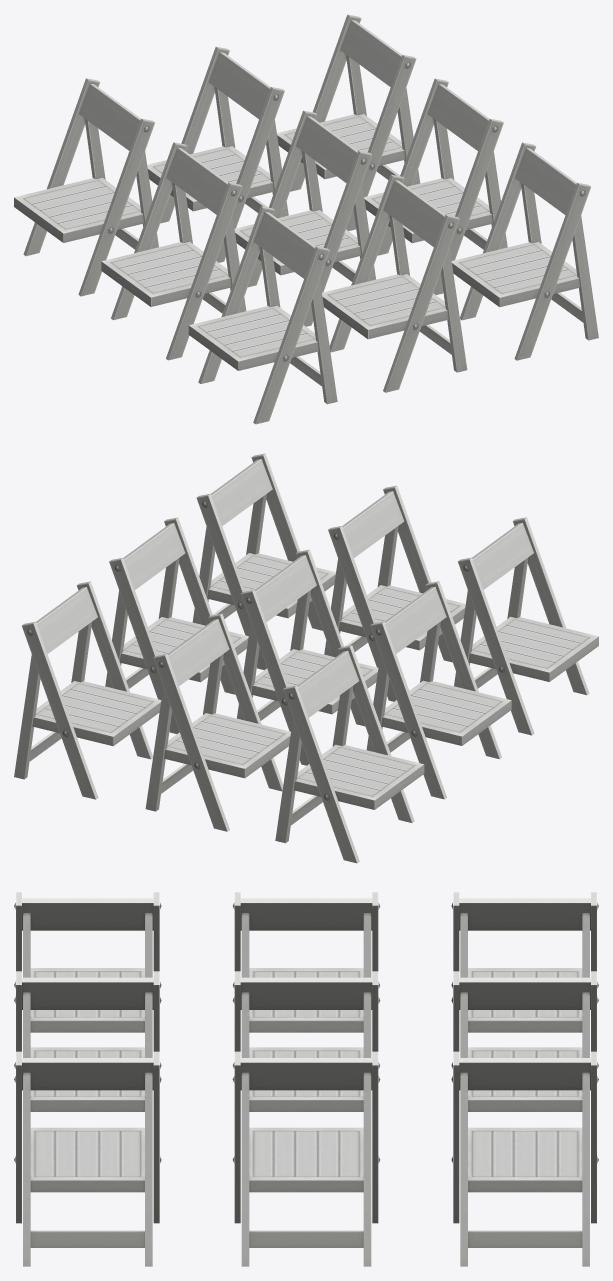
File: my_ariussummer_01_seat_02.glb
3 renders of one model, top to bottom at view 1: azimuth 30°, elevation 25°; view 2: azimuth 150°, elevation 25°; view 3: azimuth 270°, elevation 25°, orthographic. The views are drawn at different scales.
Parts seen in each view (by area): view 1: my_ariussummer_01_seat_02; view 2: my_ariussummer_01_seat_02; view 3: my_ariussummer_01_seat_02.
Boxes of the visible parts, x1,y1,x2,y2 form: my_ariussummer_01_seat_02: (14,14,598,424); my_ariussummer_01_seat_02: (14,453,598,863); my_ariussummer_01_seat_02: (14,892,598,1266).
Size of the model in its own units: 0.0143 by 0.0061 by 0.0161.
1 material, 1 textured.
